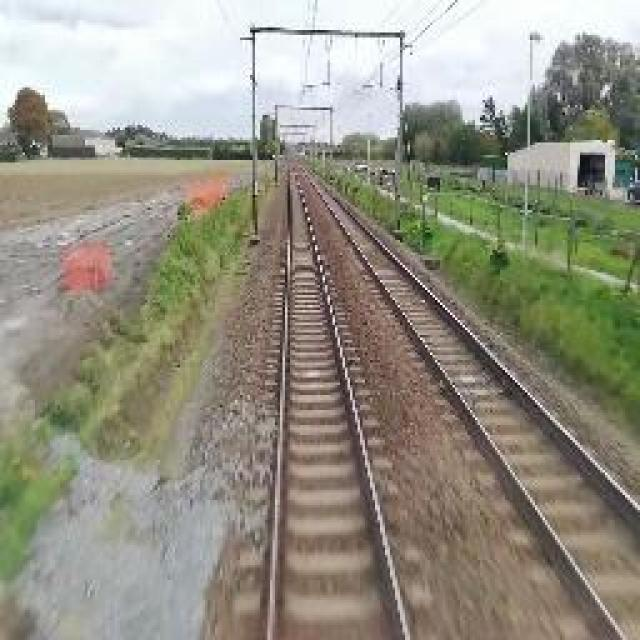rail: (238, 161, 442, 640)
